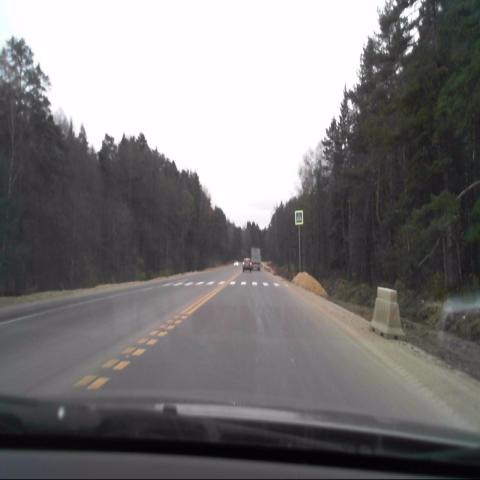5_19_1: (294, 210, 303, 224)
